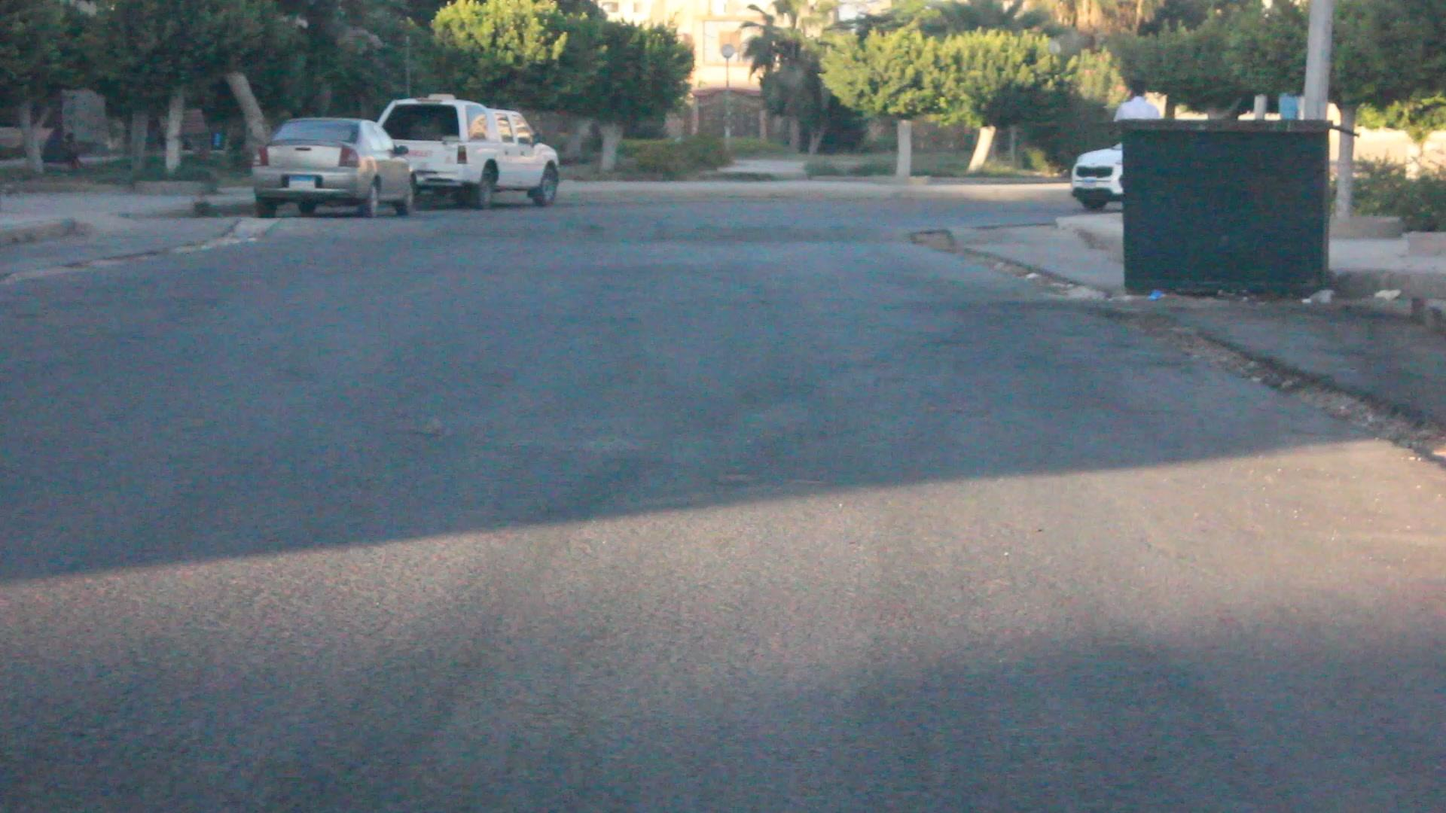Bump: (207, 203, 896, 235)
